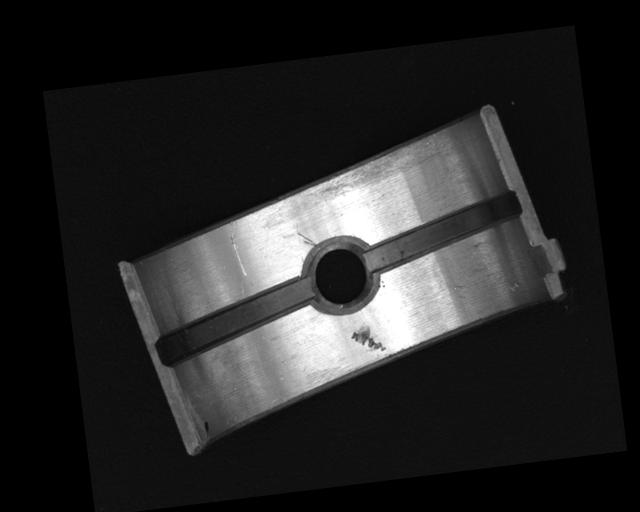blot: (203, 419, 211, 437)
bruise: (349, 321, 387, 354), (447, 280, 468, 293), (508, 281, 522, 293)
gap: (154, 275, 318, 365), (359, 191, 526, 268)
hole: (300, 234, 381, 313)
nick: (228, 218, 248, 278), (297, 230, 317, 247)
scratch: (297, 131, 448, 205)
